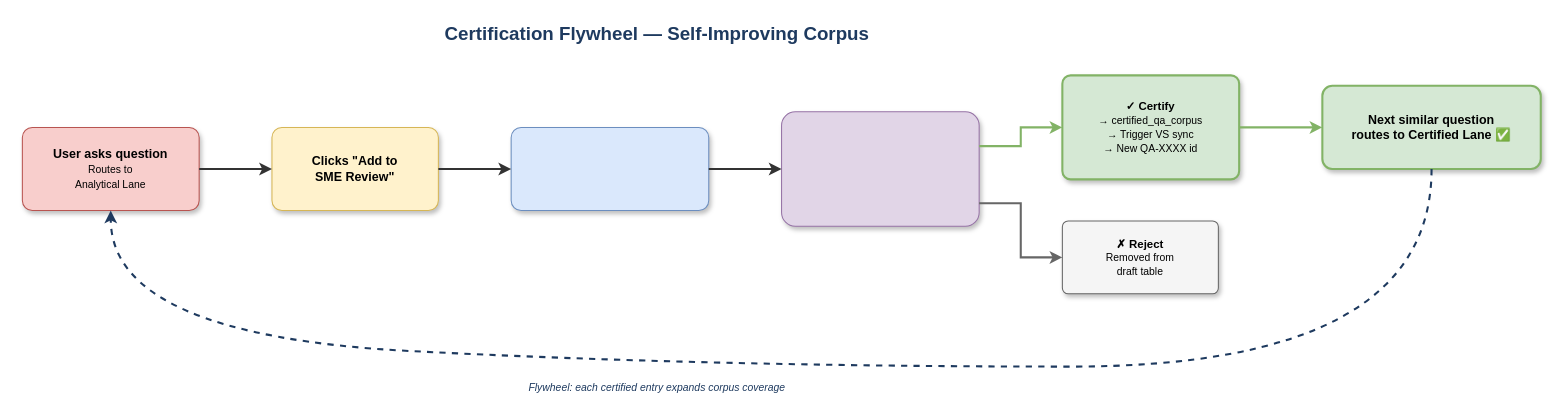
Some shapes in this 1566 by 415 pixel diagram are drawn without their labels. The centre of each missing label's shape, as x and y in pixels:
Draft saved certified_qa_corpus_draft (DRAFT-{8hex}): point (610, 170)
SME Review View SQL + answer Run / Edit query SQL Validation (EXPLAIN): point (880, 170)
